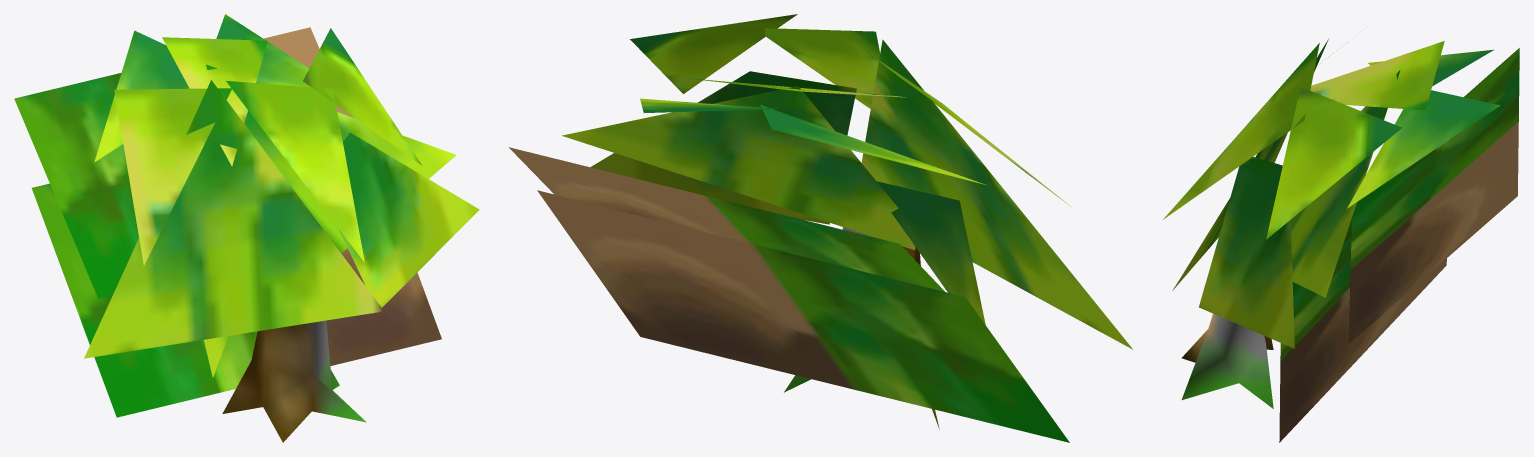
File: fg_bushB_1.dae
The picture shows the model from 3 angles, left to right: view 1: azimuth 30°, elevation 25°; view 2: azimuth 150°, elevation 25°; view 3: azimuth 270°, elevation 25°; orthographic projection. The views are drawn at different scales.
Visible parts, largest first — view 1: fg_bushB_1; view 2: fg_bushB_1; view 3: fg_bushB_1.
Part boxes in pixels (x1=…): fg_bushB_1: x1=14, y1=14, x2=479, y2=442; fg_bushB_1: x1=508, y1=14, x2=1132, y2=442; fg_bushB_1: x1=1163, y1=39, x2=1519, y2=442.
Size of the model in its own units: 34.76 by 25.18 by 25.46.
1 material, 1 textured.
